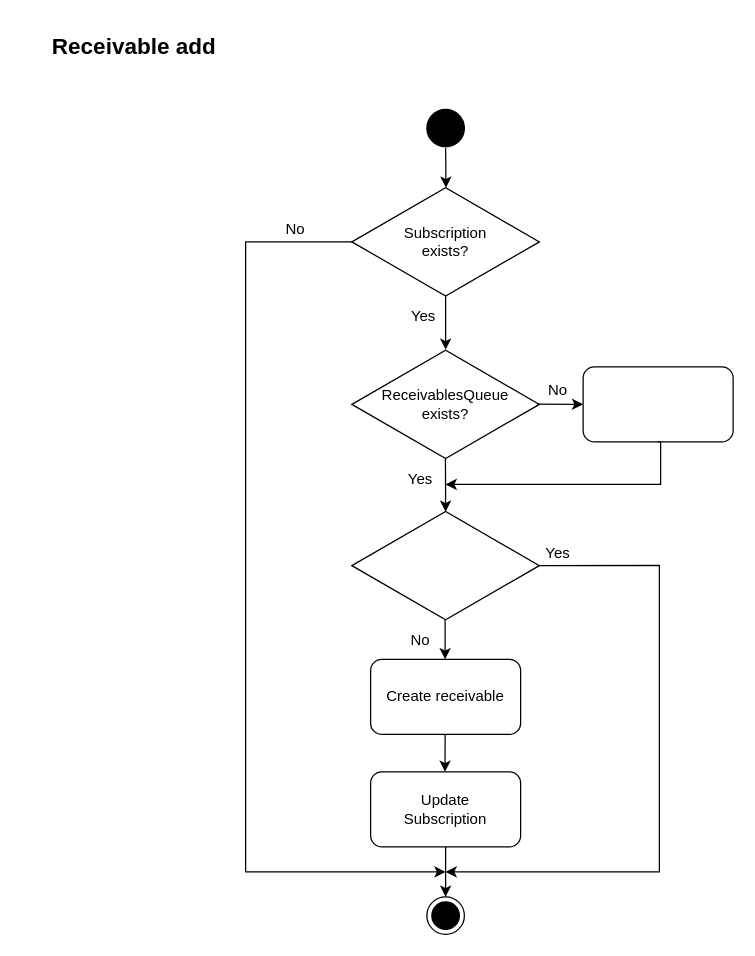
The diagram is 755 pixels wide and 956 high, and some of its shapes have lost their labels. Here are the shapes that lost their labels. From the top down, the centre of each, then its label:
At pixel 657 404: "Create ReceivablesQueue".
At pixel 445 565: "Receivable exists ?".
